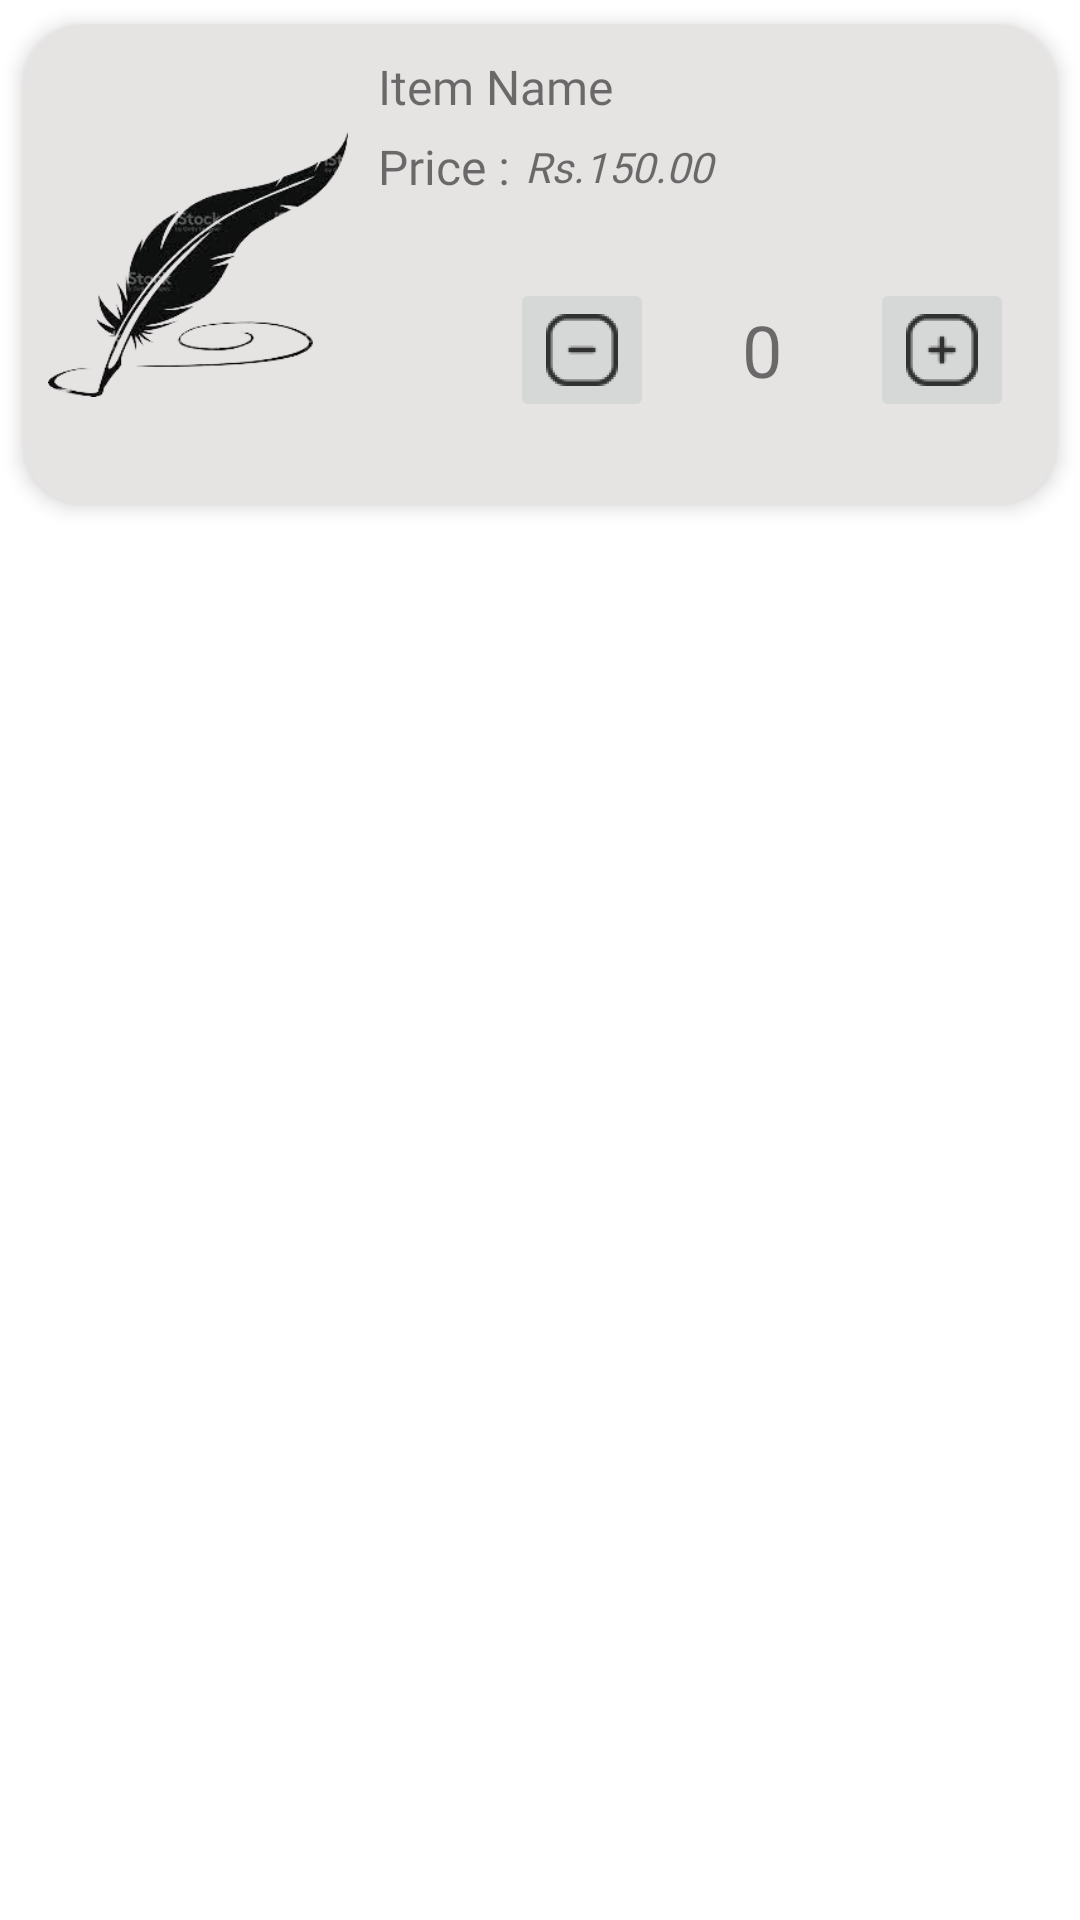

Named icons in this screenshot (1080x1920) and their bounding boxes, rect(x1, y1, x2, y2):
Minus Button: rect(522, 296, 642, 404)
Plus Button: rect(882, 296, 1002, 404)
